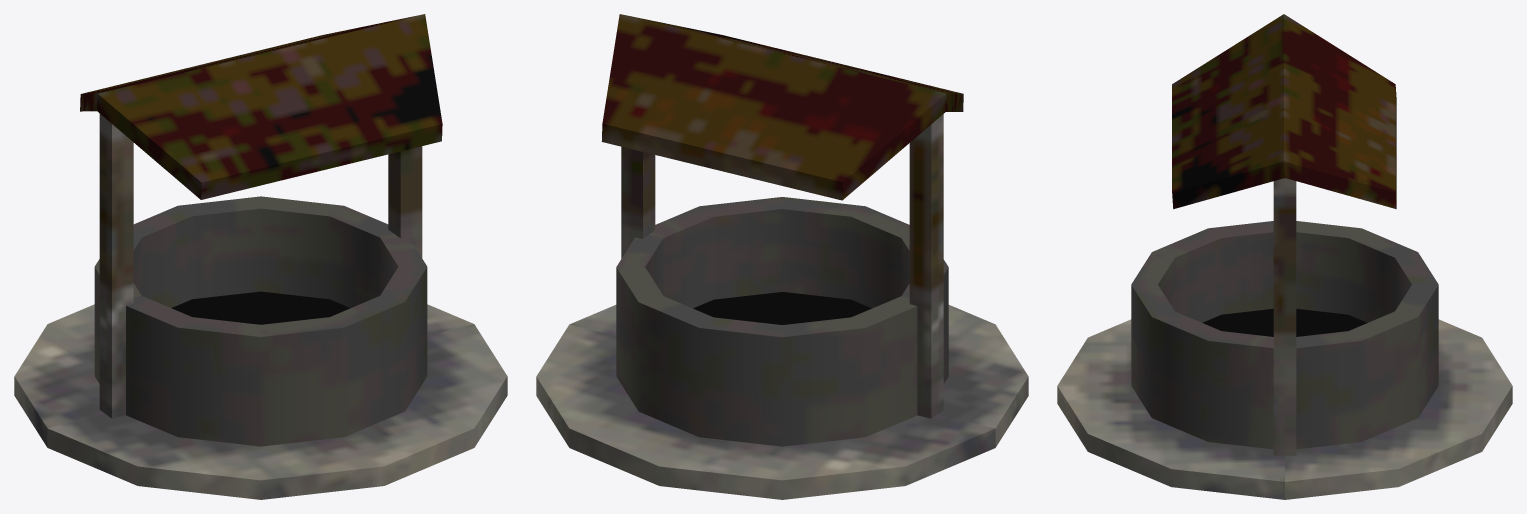
Rendered from well.fbx.
The picture shows the model from 3 angles, left to right: view 1: azimuth 30°, elevation 25°; view 2: azimuth 150°, elevation 25°; view 3: azimuth 270°, elevation 25°; orthographic projection. The views are drawn at different scales.
Parts seen in each view (by area): view 1: Well_Assets_0; view 2: Well_Assets_0; view 3: Well_Assets_0.
Boxes of the visible parts, box(x1,y1,x2,y2) form: Well_Assets_0: box(14, 14, 507, 499); Well_Assets_0: box(536, 14, 1028, 499); Well_Assets_0: box(1057, 14, 1512, 499).
Bounding box in the file's own units: 2.04 × 1.57 × 2.04.
